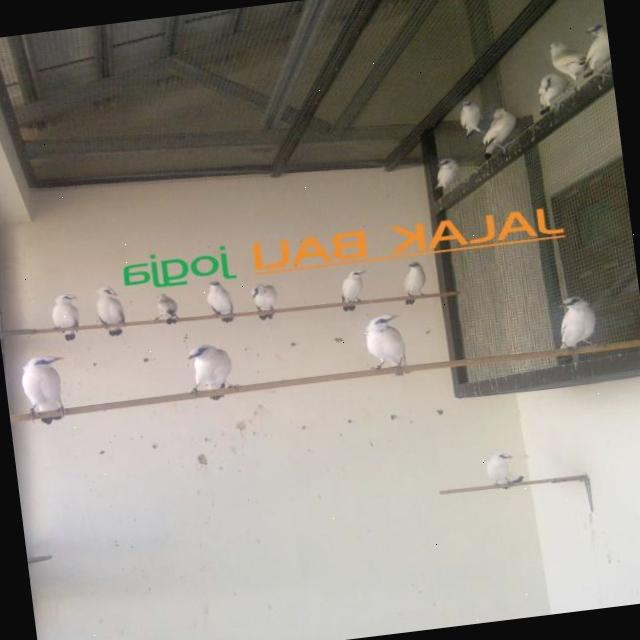Jalak Bali: (7, 349, 82, 437), (172, 334, 244, 409), (542, 286, 612, 356), (358, 312, 418, 382), (476, 99, 530, 166), (440, 86, 494, 146), (88, 280, 134, 348), (474, 446, 530, 496), (545, 28, 586, 94), (524, 66, 574, 120), (328, 265, 377, 318), (44, 288, 88, 346), (576, 15, 612, 84), (240, 276, 288, 325), (390, 258, 434, 310), (198, 274, 240, 328), (426, 148, 470, 198), (146, 286, 187, 331)
